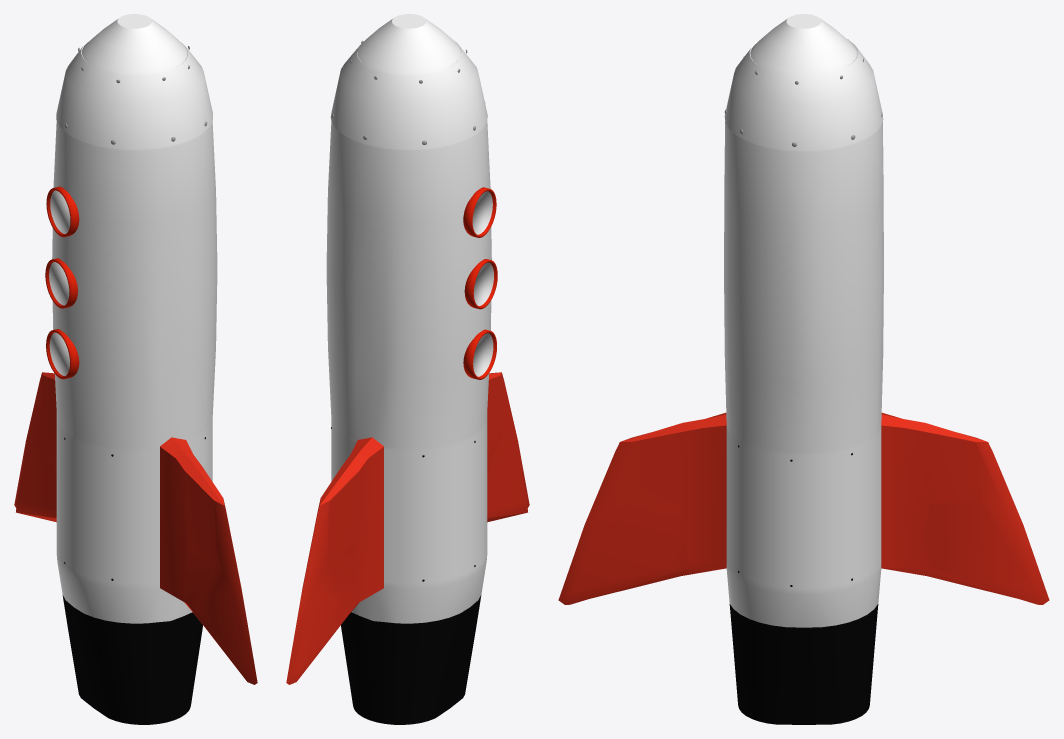
File: Rocket.fbx
The picture shows the model from 3 angles, left to right: view 1: azimuth 30°, elevation 25°; view 2: azimuth 150°, elevation 25°; view 3: azimuth 270°, elevation 25°; orthographic projection.
Parts seen in each view (by area): view 1: Rocket, Calotte, Window, Window.002, Window.001; view 2: Rocket, Calotte, Window, Window.002, Window.001; view 3: Rocket, Calotte.
Boxes of the visible parts, left/top/right/bottom form: Rocket: left=14, top=14, right=257, bottom=724; Calotte: left=56, top=39, right=212, bottom=149; Window: left=46, top=186, right=79, bottom=237; Window.002: left=46, top=329, right=79, bottom=379; Window.001: left=45, top=258, right=77, bottom=308; Rocket: left=286, top=14, right=529, bottom=724; Calotte: left=330, top=41, right=487, bottom=149; Window: left=463, top=187, right=496, bottom=237; Window.002: left=463, top=329, right=496, bottom=379; Window.001: left=464, top=259, right=497, bottom=309; Rocket: left=558, top=14, right=1049, bottom=724; Calotte: left=724, top=39, right=883, bottom=151.
Bounding box in the file's own units: 222 × 956 × 623.
